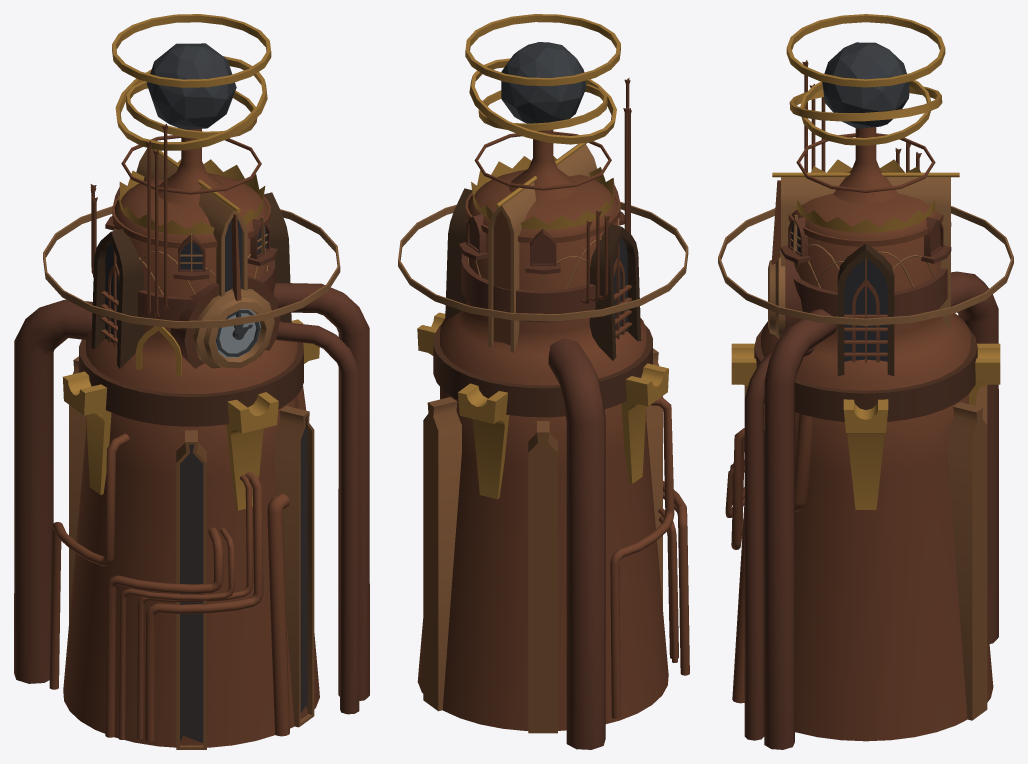
The model's file is Background_MainBuilding.fbx.
The picture shows the model from 3 angles, left to right: view 1: azimuth 30°, elevation 25°; view 2: azimuth 150°, elevation 25°; view 3: azimuth 270°, elevation 25°; orthographic projection. The views are drawn at different scales.
Parts seen in each view (by area): view 1: Background_MainBuilding; view 2: Background_MainBuilding; view 3: Background_MainBuilding.
Boxes of the visible parts, x1,y1,x2,y2 form: Background_MainBuilding: (14,14,369,749); Background_MainBuilding: (398,14,689,749); Background_MainBuilding: (718,14,1013,749).
Size of the model in its own units: 29.61 by 70.05 by 29.28.
